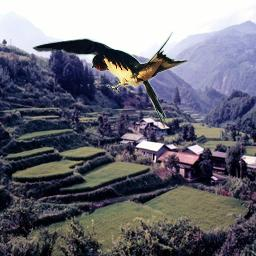Swallow: (29, 30, 217, 128)
